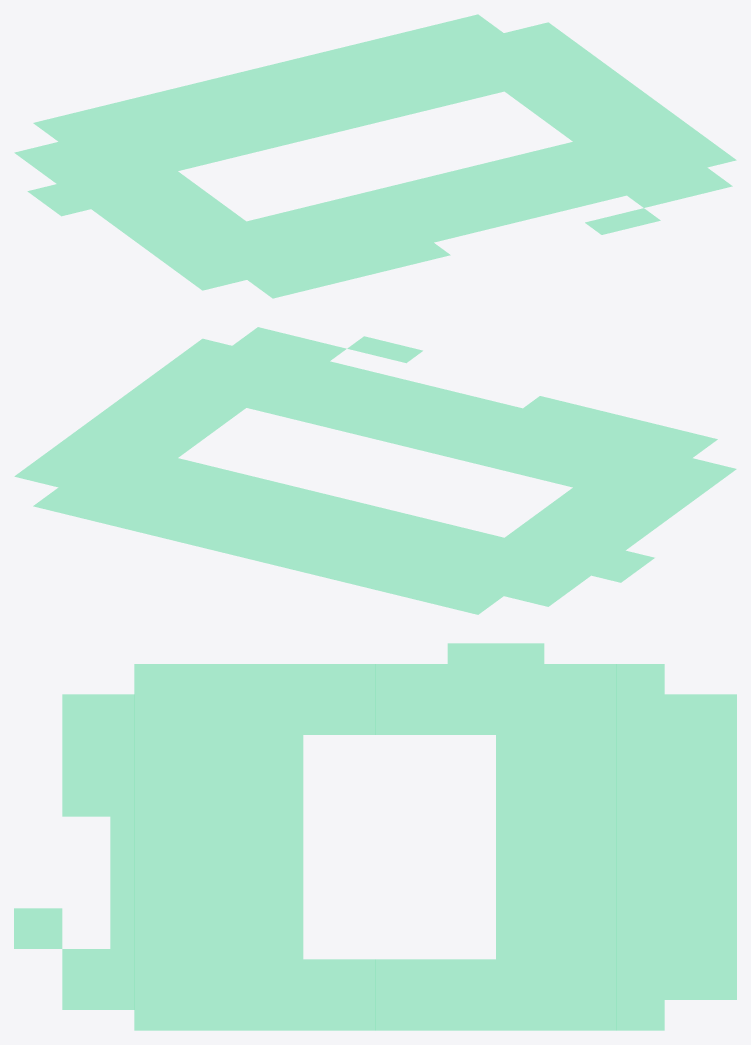
File: navmesh.glb
The picture shows the model from 3 angles, top to bottom: view 1: azimuth 30°, elevation 25°; view 2: azimuth 150°, elevation 25°; view 3: azimuth 270°, elevation 25°; orthographic projection. The views are drawn at different scales.
Visible parts, largest first — view 1: NAVMESH; view 2: NAVMESH; view 3: NAVMESH.
Boxes of the visible parts, bbox=[...] form: NAVMESH: bbox=[14, 14, 736, 298]; NAVMESH: bbox=[14, 327, 736, 614]; NAVMESH: bbox=[14, 643, 736, 1030].
Size of the model in its own units: 9.5 by 0 by 7.5.
